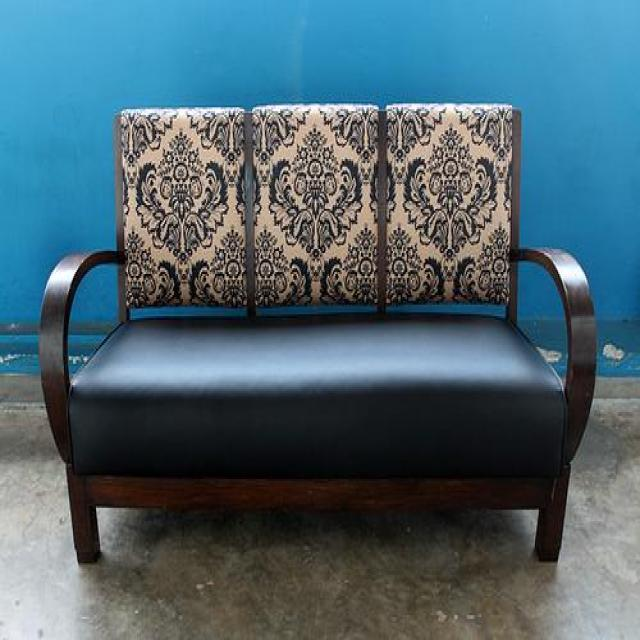sofa: (38, 100, 598, 567)
